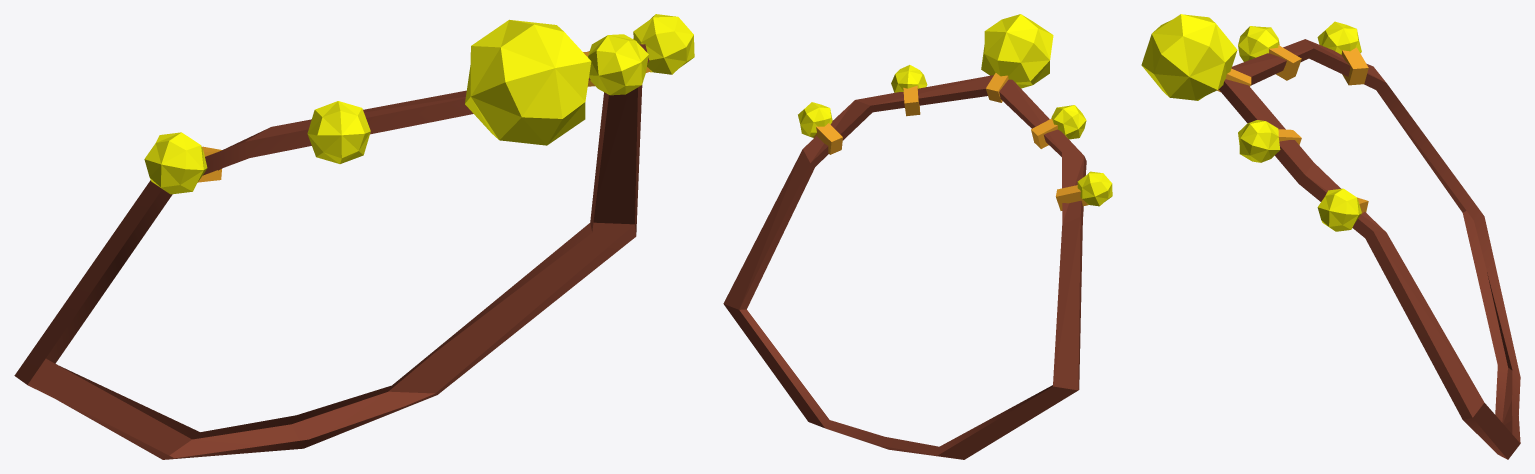
Rendered from Necklace 06.FBX.
The picture shows the model from 3 angles, left to right: view 1: azimuth 30°, elevation 25°; view 2: azimuth 150°, elevation 25°; view 3: azimuth 270°, elevation 25°; orthographic projection. The views are drawn at different scales.
Parts seen in each view (by area): view 1: Necklace 06; view 2: Necklace 06; view 3: Necklace 06.
Boxes of the visible parts, bbox=[...] form: Necklace 06: bbox=[14, 14, 694, 459]; Necklace 06: bbox=[723, 14, 1112, 459]; Necklace 06: bbox=[1141, 14, 1520, 459].
Size of the model in its own units: 32.82 by 29.96 by 24.95.
Materials: 1 (1 with a texture image).
